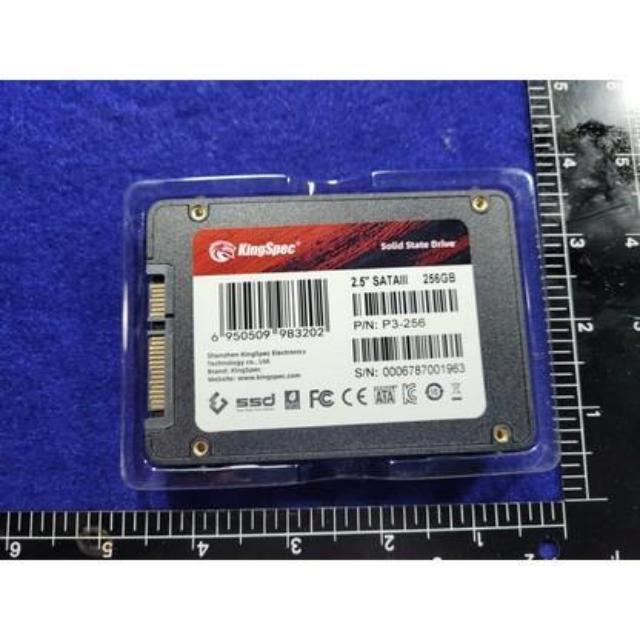DISK: (142, 191, 542, 469)
